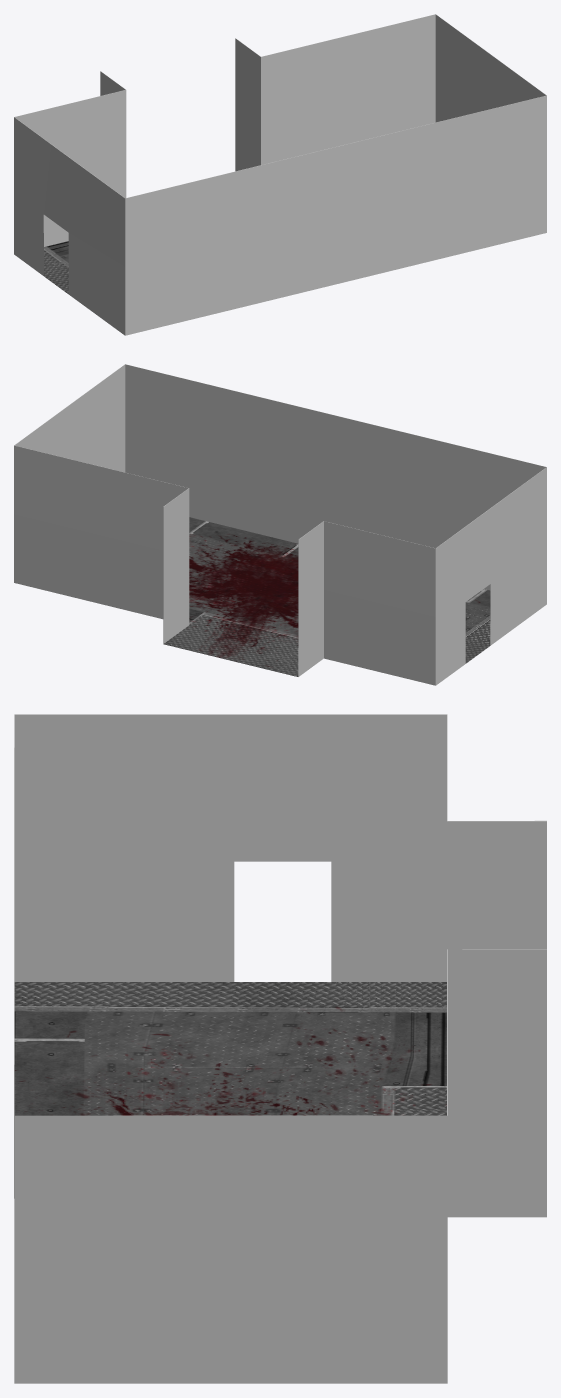
The model's file is arsenal_room 2.fbx.
3 renders of one model, top to bottom at view 1: azimuth 30°, elevation 25°; view 2: azimuth 150°, elevation 25°; view 3: azimuth 270°, elevation 25°, orthographic. The views are drawn at different scales.
Visible parts, largest first — view 1: armory room; view 2: armory room; view 3: armory room.
Boxes of the visible parts, <box> form: armory room: <box>14,14,546,335</box>; armory room: <box>14,364,546,685</box>; armory room: <box>14,714,546,1383</box>.
Size of the model in its own units: 1159 by 361 by 650.
